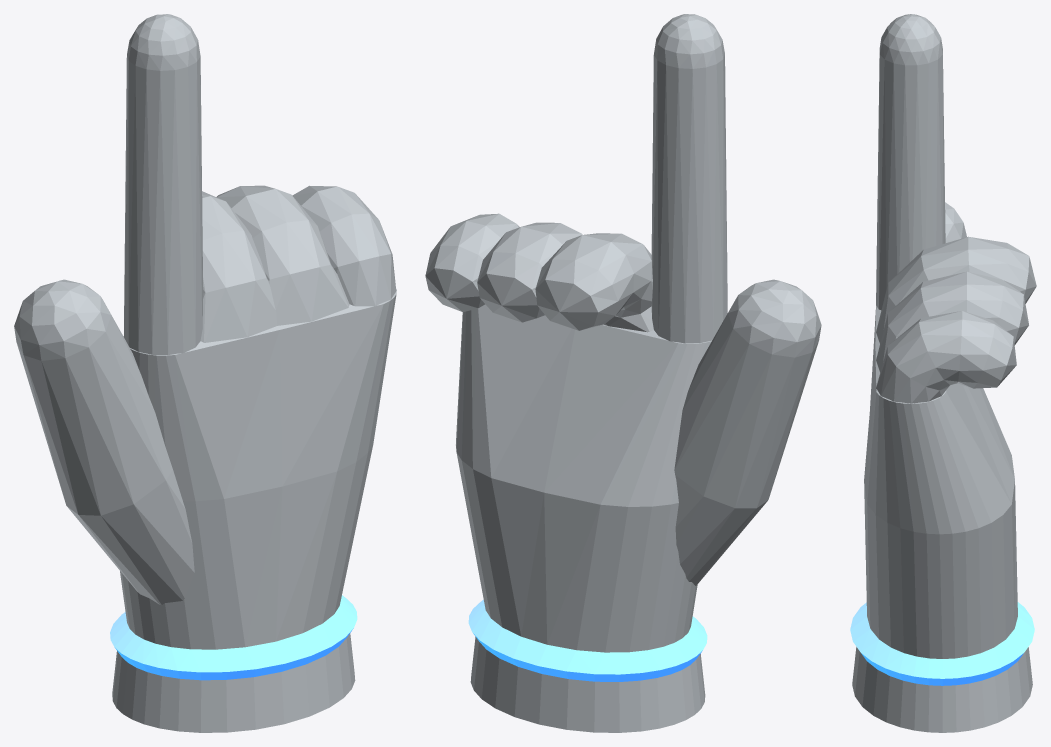
The model's file is hand-cursor-62192f.glb.
3 renders of one model, left to right at view 1: azimuth 30°, elevation 25°; view 2: azimuth 150°, elevation 25°; view 3: azimuth 270°, elevation 25°, orthographic. The views are drawn at different scales.
Bounding box in the file's own units: 0.038 × 0.07 × 0.0188.
